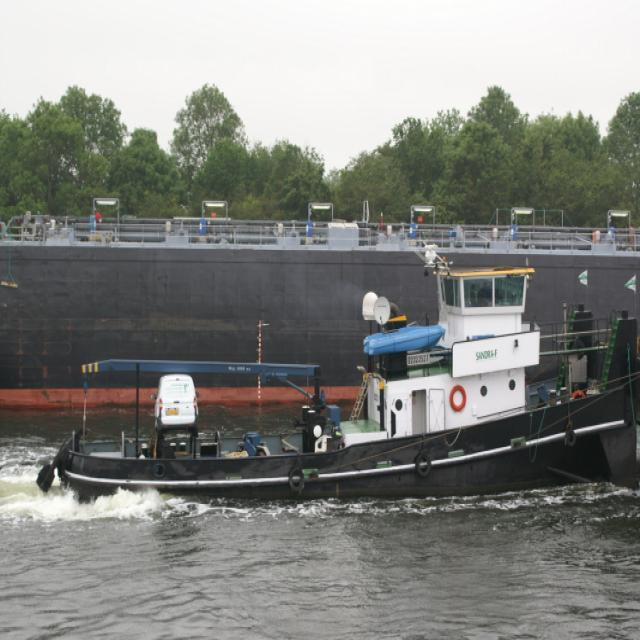tugboat: (38, 260, 640, 526)
